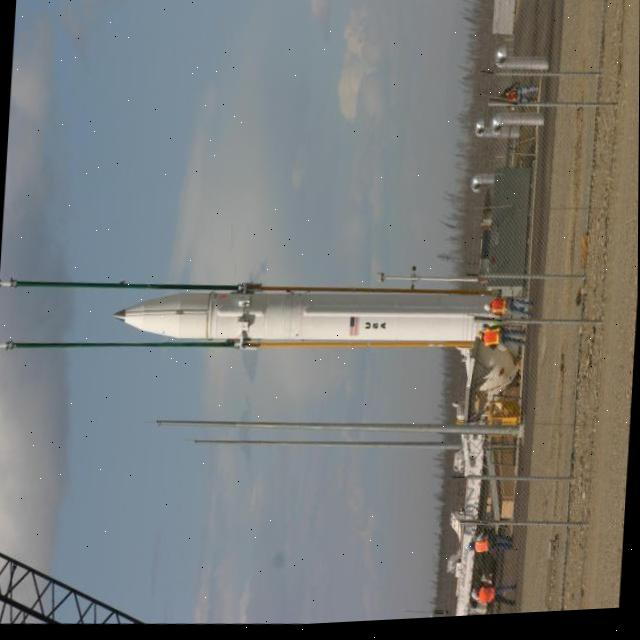missile: (107, 274, 538, 376)
